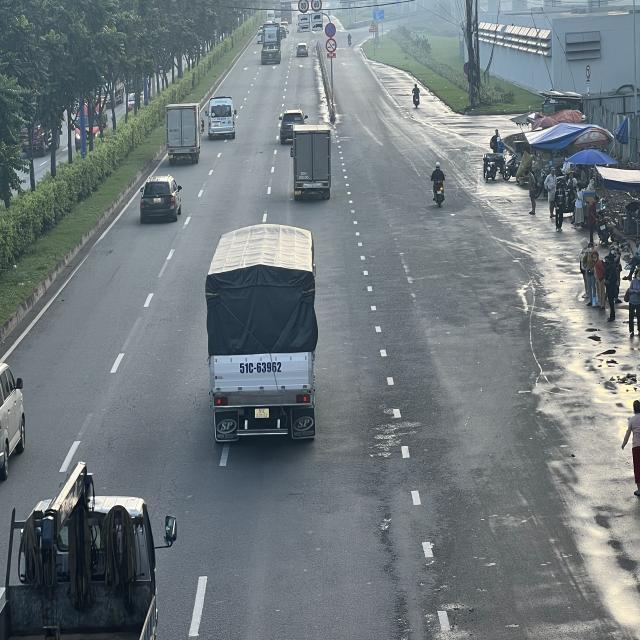car: (138, 176, 182, 224), (279, 108, 305, 142), (294, 41, 308, 57)
container: (262, 23, 282, 65)
truck: (0, 460, 172, 640), (205, 225, 319, 447), (293, 124, 335, 199), (168, 104, 206, 164)
van: (206, 95, 237, 139)
